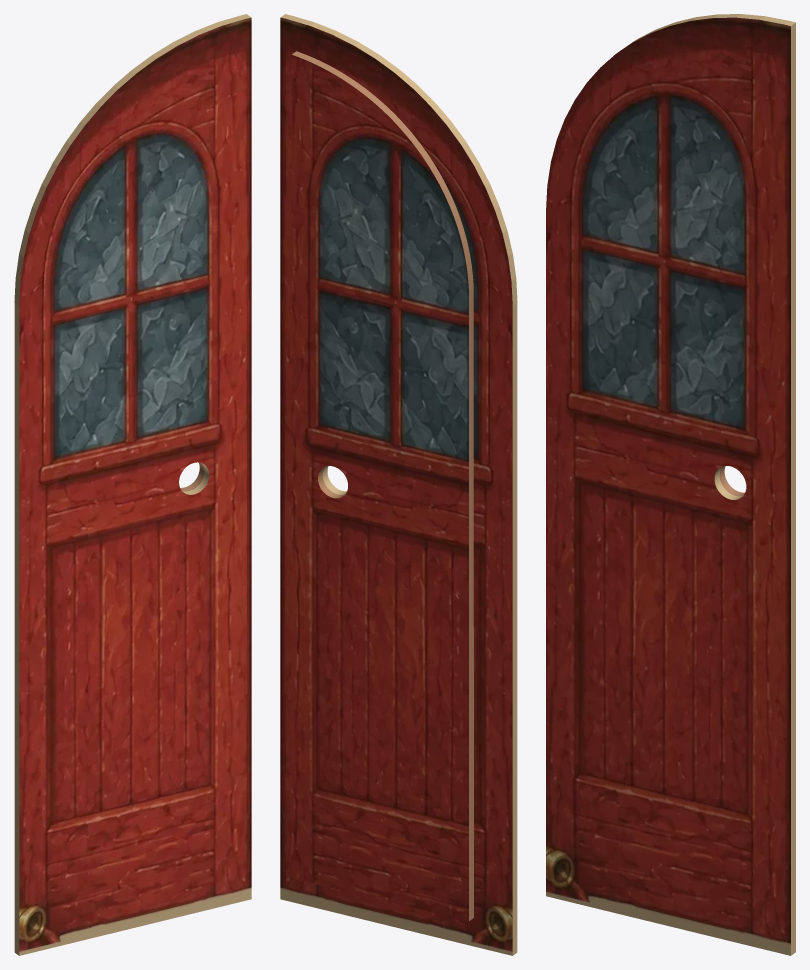
The model's file is door-left-leaf.glb.
The picture shows the model from 3 angles, left to right: view 1: azimuth 30°, elevation 25°; view 2: azimuth 150°, elevation 25°; view 3: azimuth 330°, elevation 25°; orthographic projection. The views are drawn at different scales.
Visible parts, largest first — view 1: door-left-leaf; view 2: door-left-leaf; view 3: door-left-leaf.
Part boxes in pixels (box(x1,y1,x2,y2)): door-left-leaf: box(14, 14, 251, 955); door-left-leaf: box(280, 14, 517, 955); door-left-leaf: box(546, 14, 795, 955).
Bounding box in the file's own units: 252 × 914 × 18.
Materials: 4 (2 with a texture image).
